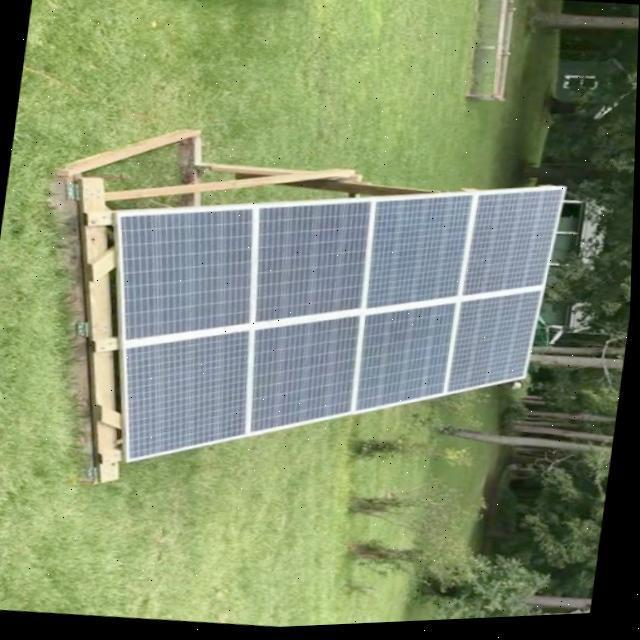Normal Solar Panel: (85, 146, 566, 504)
